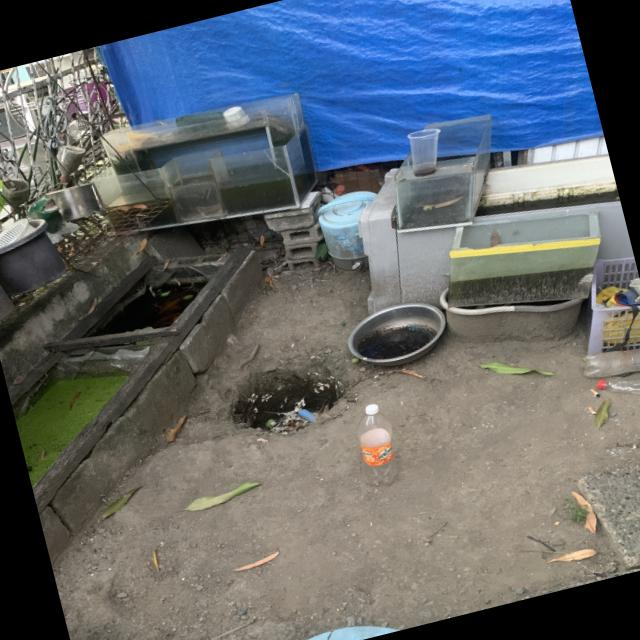Bottle: (357, 404, 397, 485)
